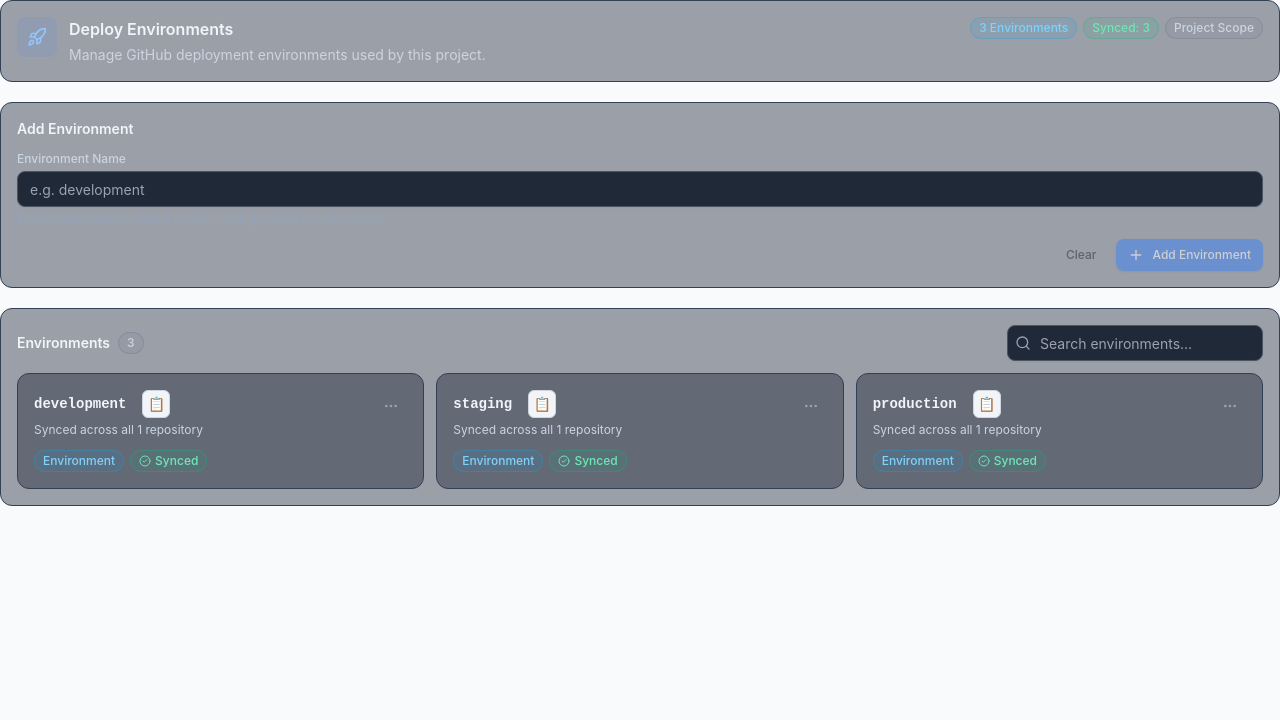
DeployEnvironments Redesign › should filter environments based on search term
expect the text "development" is shown: met, box [34,394,126,414]
Type "prod" into the search field with placeholder "Search environments…".
click(1135, 343); type("prod")  # box [1007,325,1263,361]
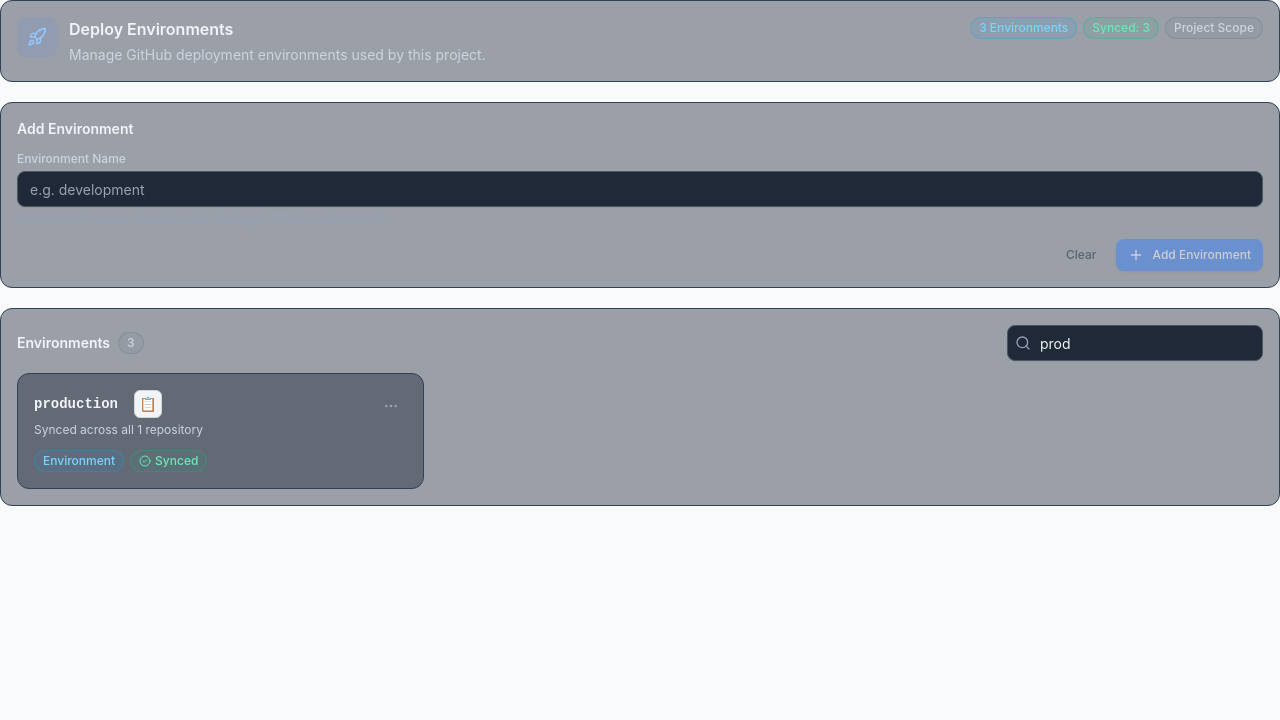
expect the text "production" is shown: met, box [34,394,118,414]
expect the text "staging" is gone: met
